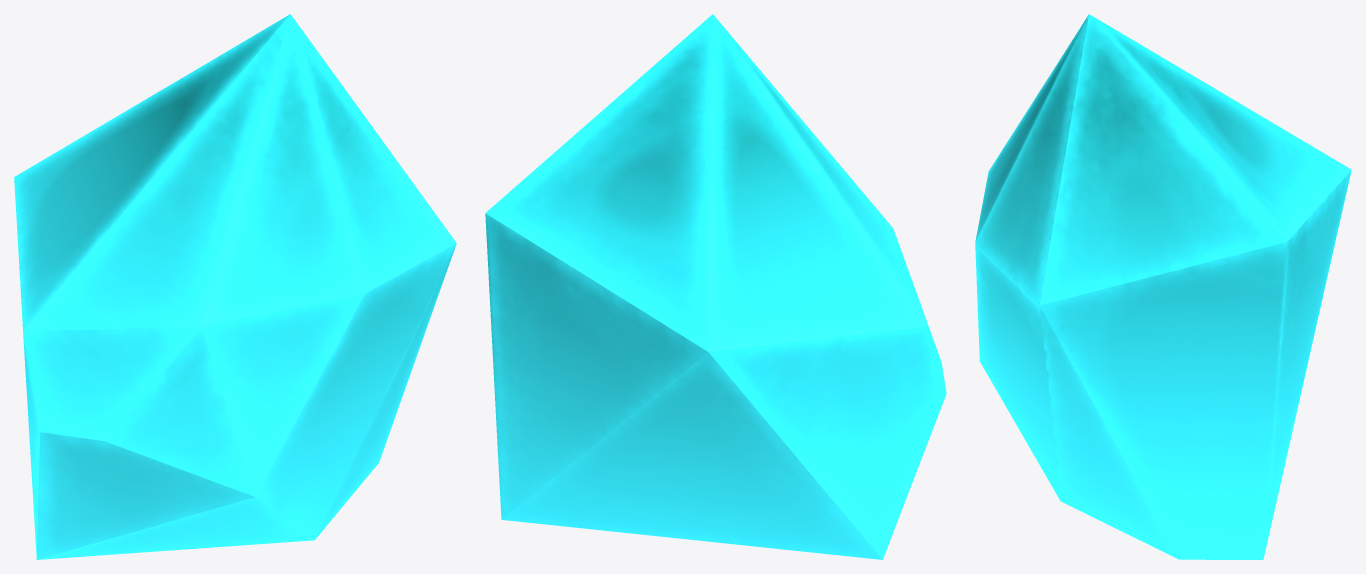
The model's file is crystal_piece_005.fbx.
The picture shows the model from 3 angles, left to right: view 1: azimuth 30°, elevation 25°; view 2: azimuth 150°, elevation 25°; view 3: azimuth 270°, elevation 25°; orthographic projection. The views are drawn at different scales.
Visible parts, largest first — view 1: crystal_piece_005; view 2: crystal_piece_005; view 3: crystal_piece_005.
Part boxes in pixels (<box>): crystal_piece_005: <box>14,14,456,559</box>; crystal_piece_005: <box>485,14,946,559</box>; crystal_piece_005: <box>975,14,1351,559</box>.
Bounding box in the file's own units: 0.4619 × 0.5778 × 0.408.
Materials: 1 (1 with a texture image).
